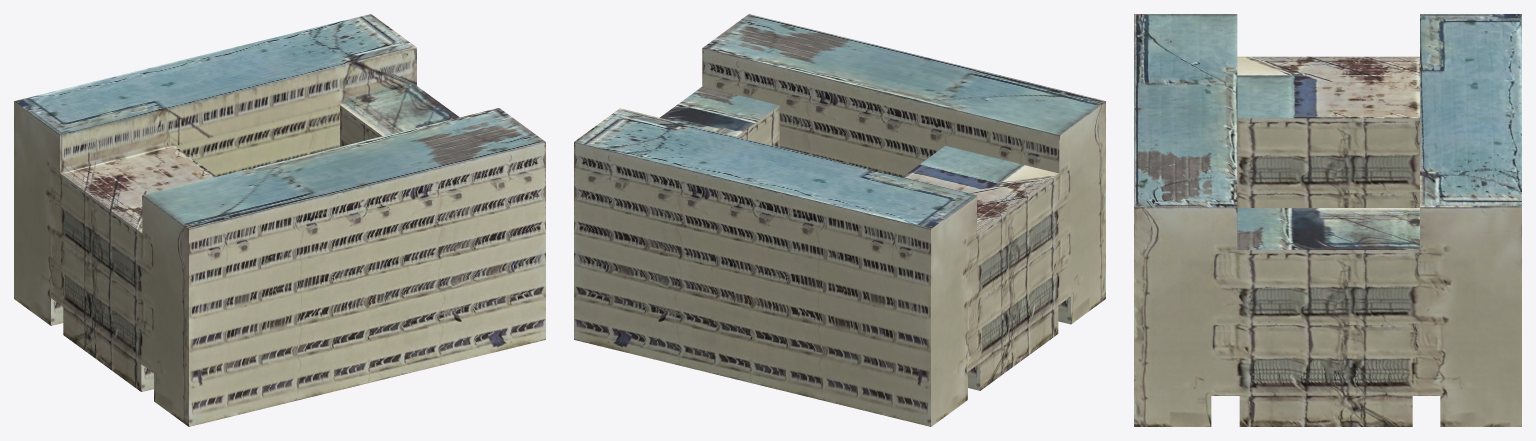
File: Techni_Hilton.gltf
3 renders of one model, left to right at view 1: azimuth 30°, elevation 25°; view 2: azimuth 150°, elevation 25°; view 3: azimuth 270°, elevation 25°, orthographic. The views are drawn at different scales.
Visible parts, largest first — view 1: node1, node2; view 2: node1; view 3: node1.
Part boxes in pixels (x1,y1,x2,y2): node1: [14, 14, 545, 426]; node2: [60, 47, 416, 176]; node1: [574, 14, 1105, 426]; node1: [1134, 14, 1521, 426].
Bounding box in the file's own units: 32.4 × 17.17 × 27.47.
